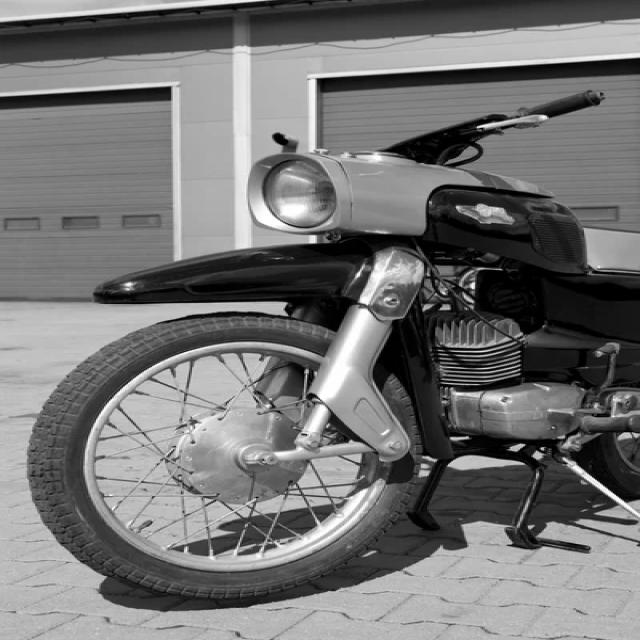Motorcycle: (27, 91, 640, 600)
